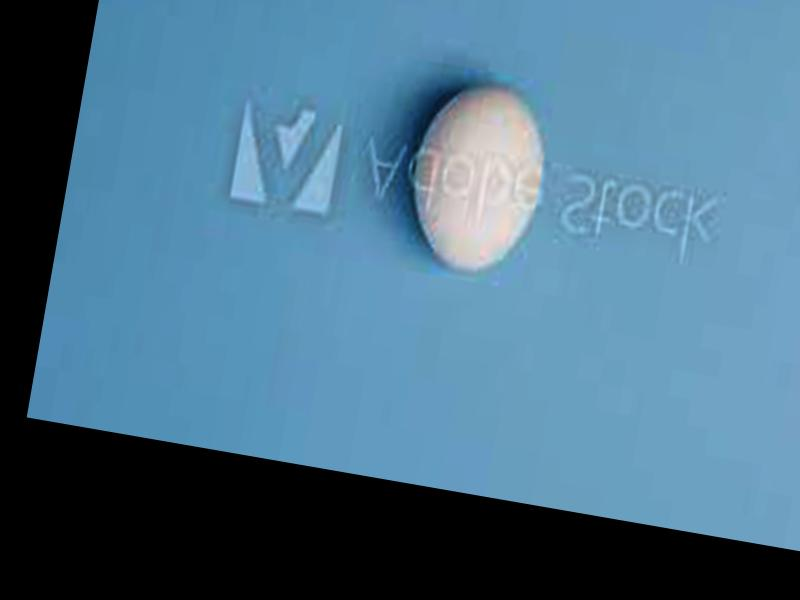Eggs: (400, 77, 554, 276)
